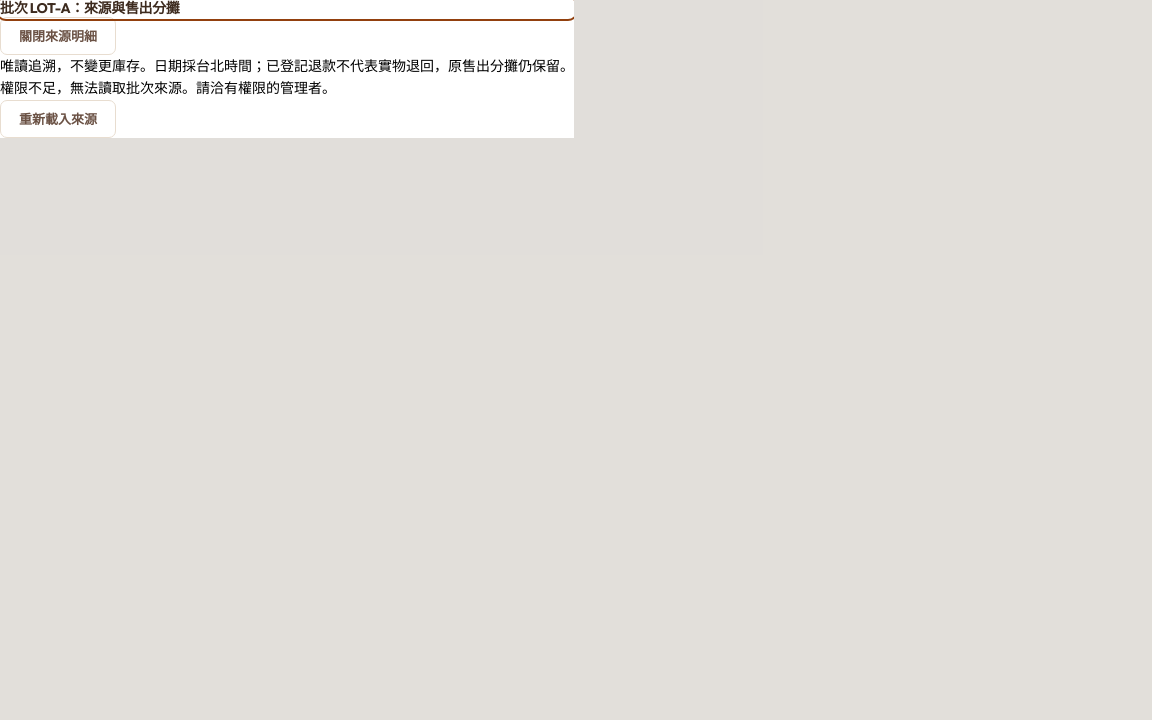
Test: batch source dialog through real read client and synthetic HTTP › keeps 403 separate from empty, hides server details, then retries the same read
This screenshot has width=1152, height=720.
Expected: the message shows "權限不足", left=0, top=79, right=336, bottom=96
Click the button "重新載入來源": [58, 119] box left=0, top=100, right=116, bottom=138
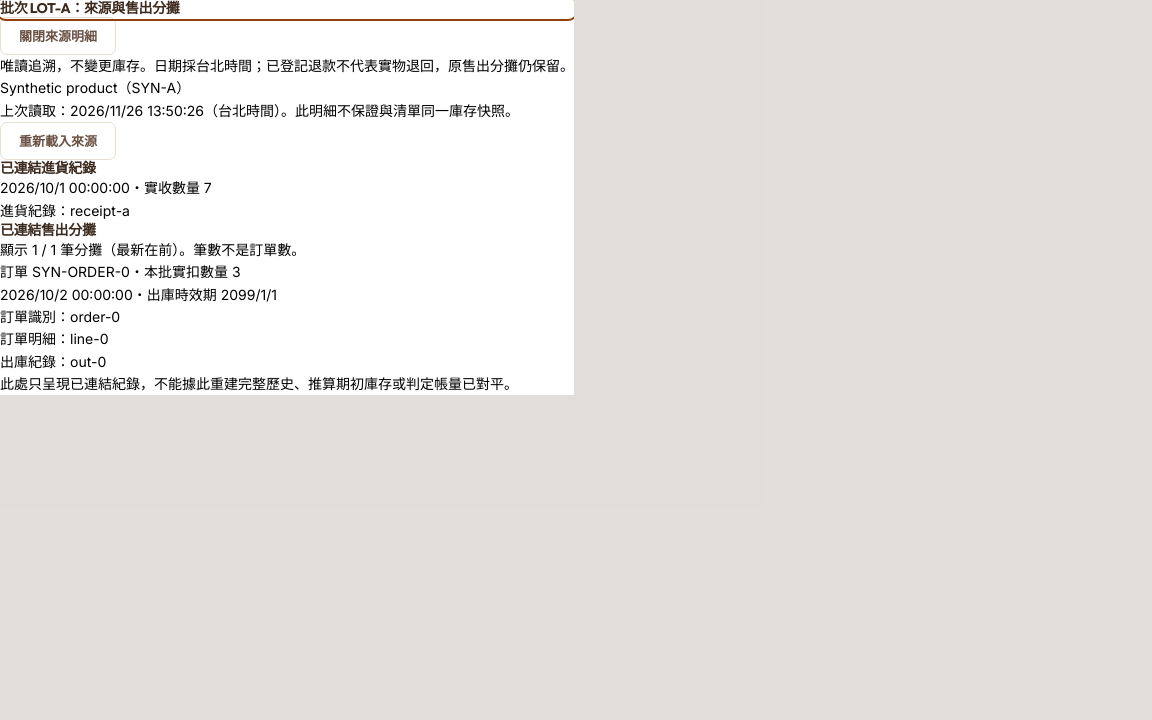
Expected: the text "訂單 SYN-ORDER-0・本批實扣數量 3" is shown, left=0, top=263, right=240, bottom=280
